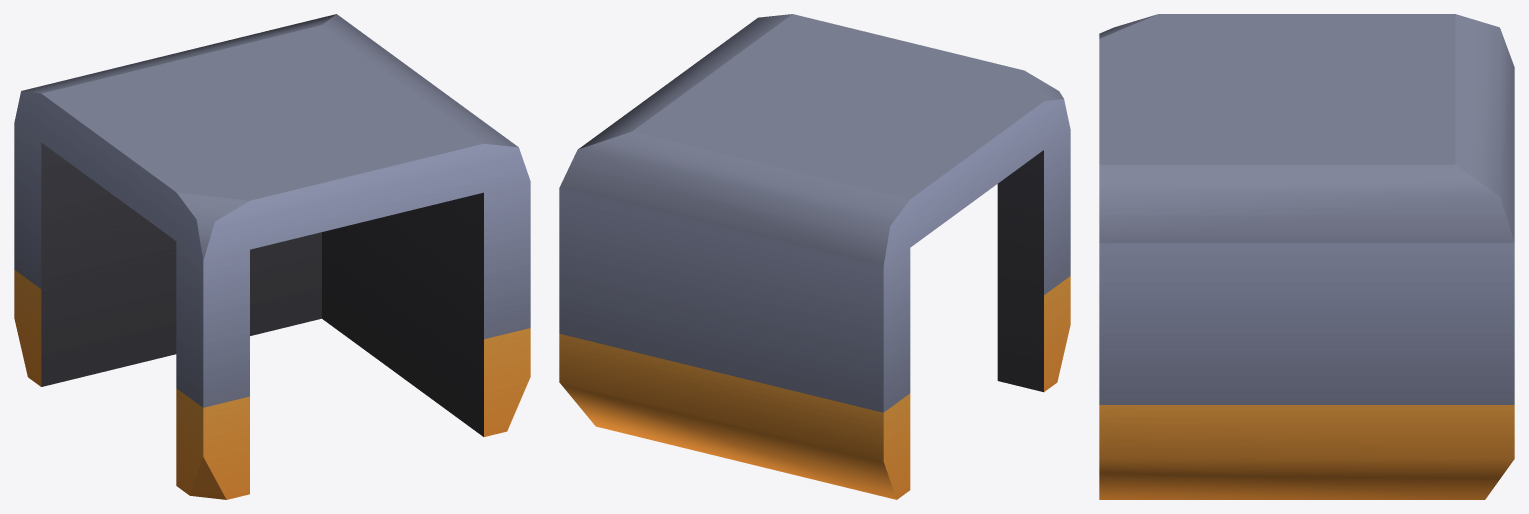
3 views of the same model, side by side, from view 1: azimuth 30°, elevation 25°; view 2: azimuth 150°, elevation 25°; view 3: azimuth 270°, elevation 25° (orthographic). The views are drawn at different scales.
Parts seen in each view (by area): view 1: cover_stripe_corner; view 2: cover_stripe_corner; view 3: cover_stripe_corner.
Boxes of the visible parts, x1,y1,x2,y2 form: cover_stripe_corner: [14, 14, 530, 499]; cover_stripe_corner: [559, 14, 1070, 499]; cover_stripe_corner: [1099, 14, 1514, 499].
Size of the model in its own units: 1.4 by 1.2 by 1.4.
1 material, 1 textured.
